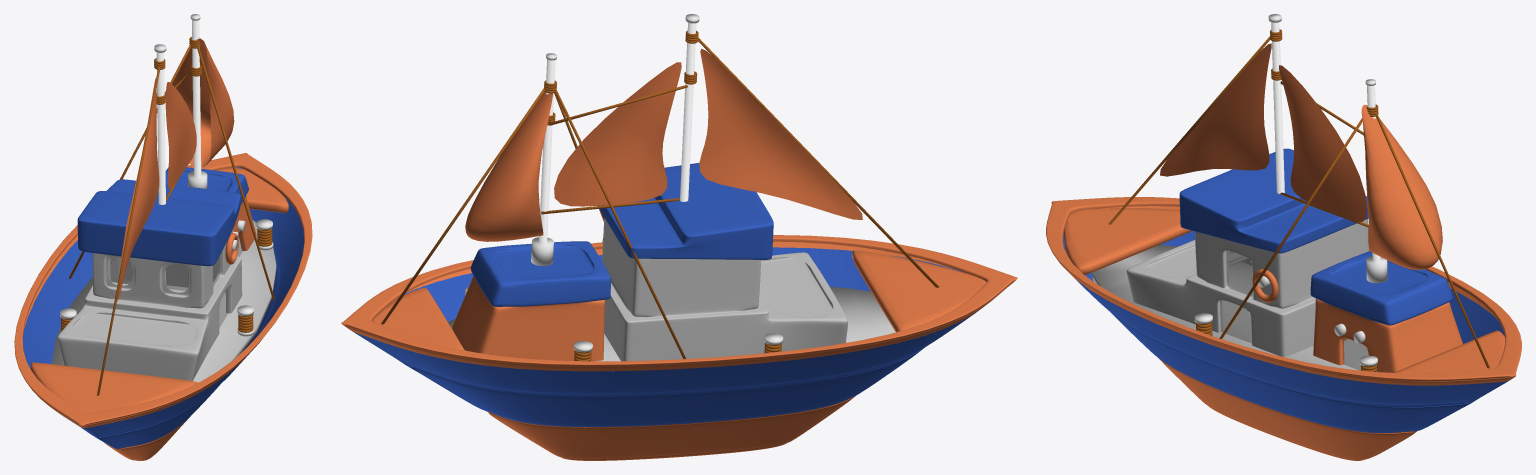
File: boat-3d-animated-icon-79430020327.glb
3 views of the same model, side by side, from view 1: azimuth 30°, elevation 25°; view 2: azimuth 150°, elevation 25°; view 3: azimuth 270°, elevation 25° (orthographic). The views are drawn at different scales.
Visible parts, largest first — view 1: body.003, body.001, body.002, flage, rope, pole, flage.001, flage.002, roll rope, glass, baloon; view 2: body.001, body.002, body.003, flage.001, flage.002, flage, rope, pole, roll rope; view 3: body.001, body.002, body.003, flage, flage.001, flage.002, rope, pole, Plane, Plane.001, roll rope, Plane.002 (+1 smaller).
Boxes of the visible parts, left/top/right/bottom form: body.003: left=52, top=220, right=276, bottom=382; body.001: left=22, top=167, right=304, bottom=448; body.002: left=14, top=153, right=312, bottom=460; flage: left=172, top=39, right=234, bottom=167; rope: left=69, top=36, right=274, bottom=395; pole: left=154, top=14, right=207, bottom=204; flage.001: left=117, top=78, right=159, bottom=301; flage.002: left=165, top=82, right=196, bottom=189; roll rope: left=60, top=219, right=273, bottom=336; glass: left=110, top=257, right=188, bottom=290; baloon: left=225, top=233, right=238, bottom=264; body.001: left=353, top=162, right=976, bottom=426; body.002: left=341, top=235, right=1017, bottom=460; body.003: left=448, top=218, right=895, bottom=371; flage.001: left=699, top=48, right=862, bottom=219; flage.002: left=554, top=62, right=681, bottom=206; flage: left=465, top=92, right=553, bottom=241; rope: left=381, top=31, right=938, bottom=359; pole: left=531, top=14, right=699, bottom=265; roll rope: left=465, top=287, right=783, bottom=361; body.001: left=1063, top=148, right=1508, bottom=432; body.002: left=1046, top=197, right=1521, bottom=460; body.003: left=1092, top=219, right=1368, bottom=370; flage: left=1361, top=104, right=1442, bottom=269; flage.001: left=1160, top=43, right=1271, bottom=176; flage.002: left=1279, top=65, right=1367, bottom=222; rope: left=1108, top=29, right=1489, bottom=368; pole: left=1268, top=14, right=1387, bottom=283; Plane: left=1226, top=251, right=1253, bottom=296; Plane.001: left=1220, top=300, right=1251, bottom=343; roll rope: left=1194, top=313, right=1377, bottom=371; Plane.002: left=1343, top=338, right=1368, bottom=370.
Bounding box in the file's own units: 2.81 × 2.65 × 2.76.
